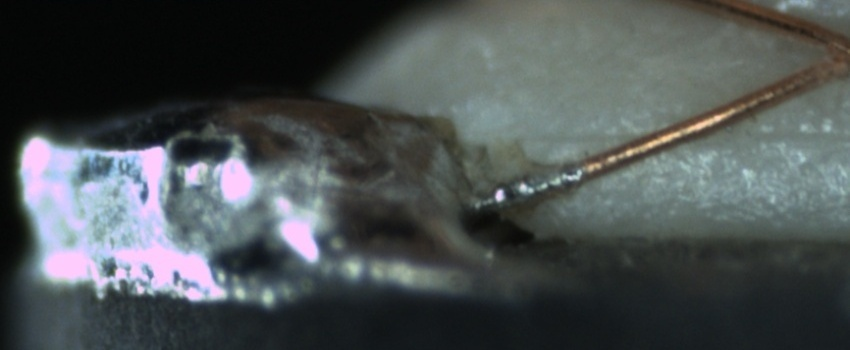DL: (551, 106, 850, 166)
TS: (460, 163, 580, 215)
TTCW: (460, 146, 630, 213)
